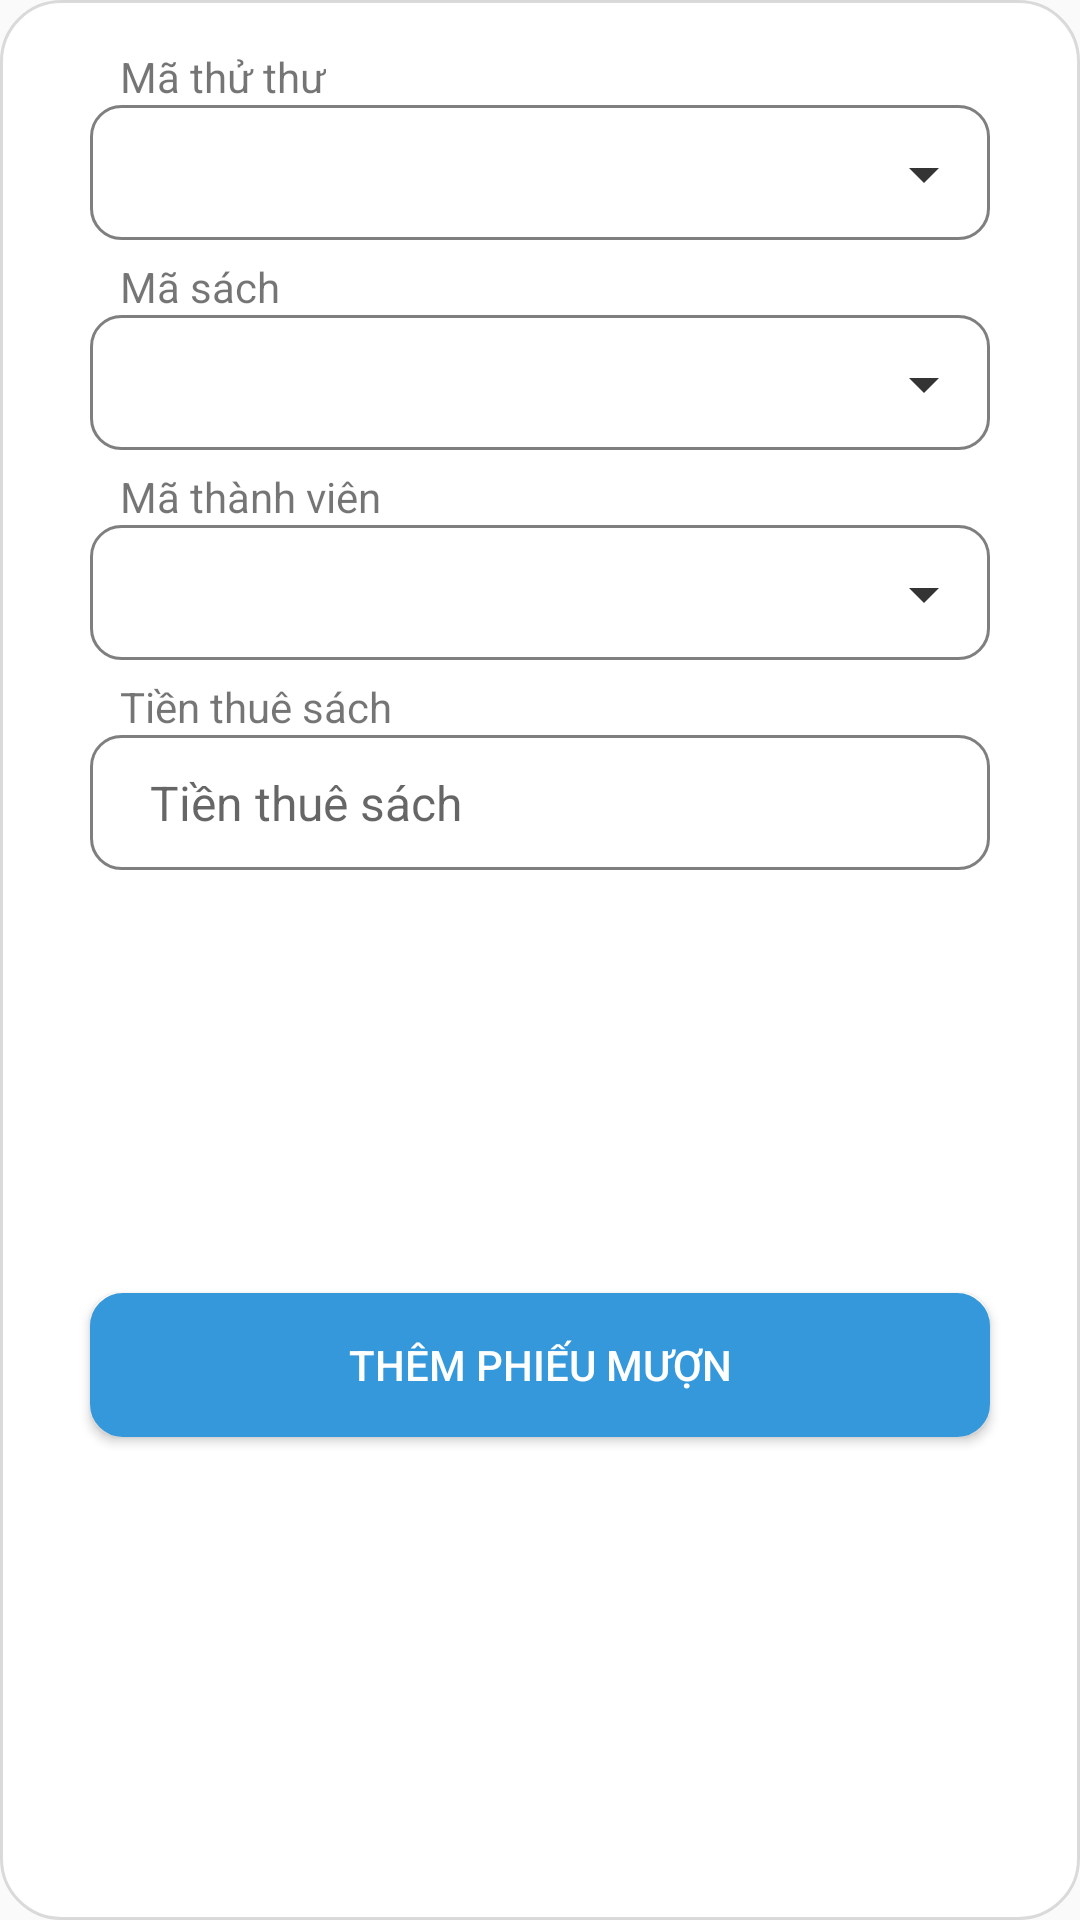

Point at icon controls on the screen. Image size 1080x1920, points as point (x, y).
down: point (924, 175), point (924, 385), point (924, 595)
